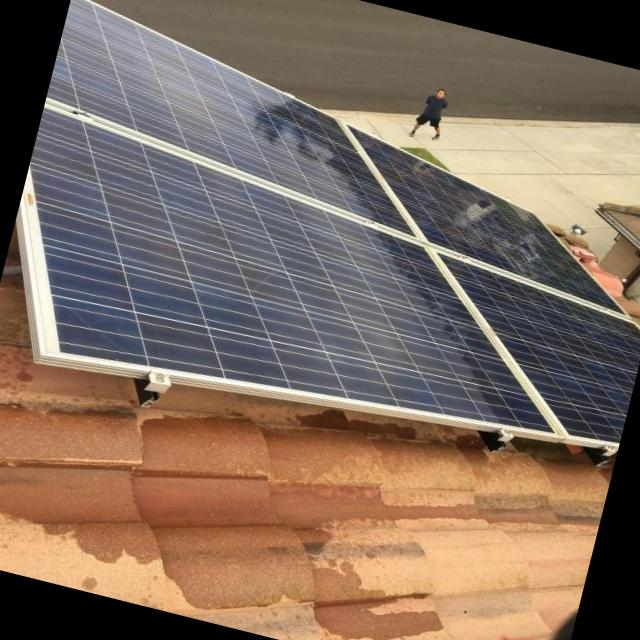no faulty: (30, 113, 548, 426), (49, 0, 405, 224), (356, 132, 611, 305), (450, 260, 639, 431)
